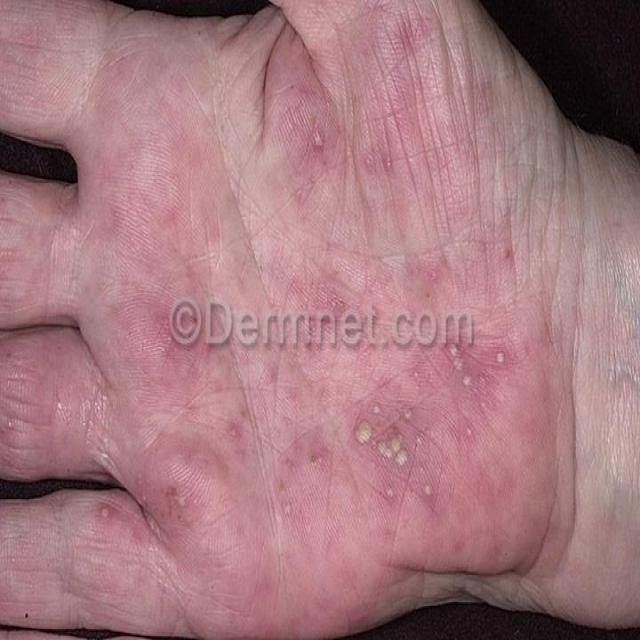Eczema: (50, 56, 510, 553)
